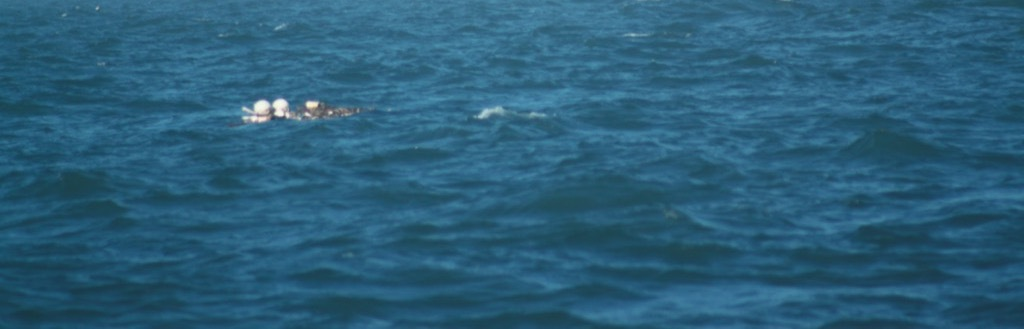plastic: (202, 69, 410, 158)
